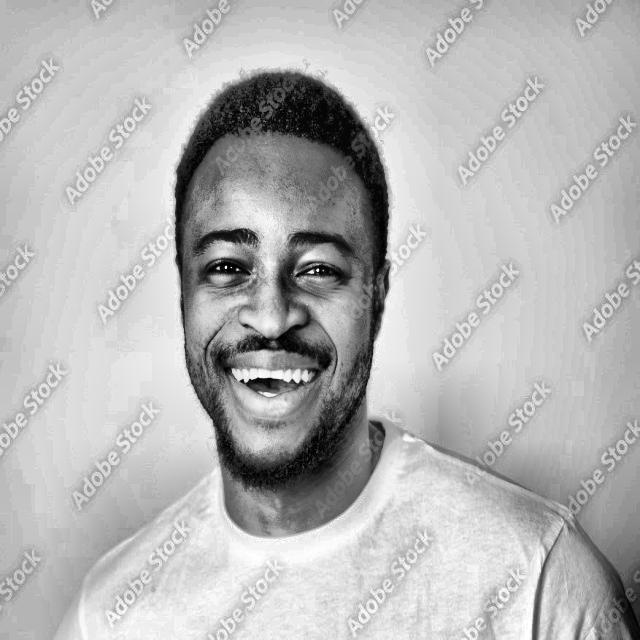happy: (163, 60, 400, 469)
